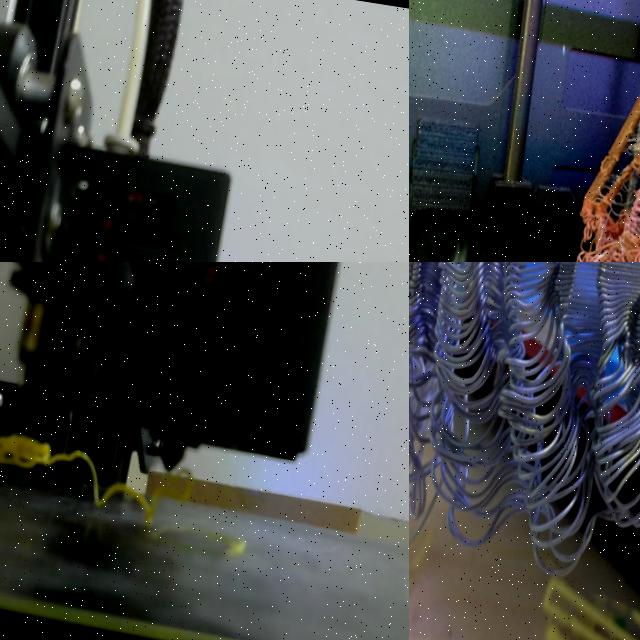spaghetti: (409, 262, 640, 577), (0, 436, 193, 528)
